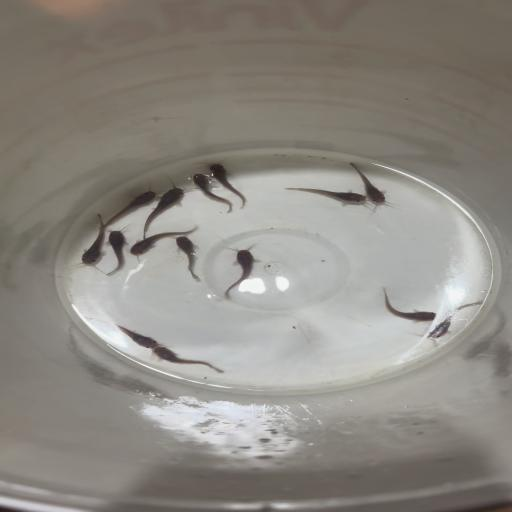lele: (136, 180, 189, 240), (348, 162, 405, 208), (423, 300, 484, 341), (379, 286, 448, 322), (84, 316, 159, 349), (220, 243, 262, 300), (99, 189, 159, 228), (129, 224, 201, 256), (71, 214, 108, 270), (205, 162, 248, 209), (153, 346, 225, 374), (186, 172, 234, 214), (168, 235, 207, 282), (283, 185, 372, 204), (101, 228, 131, 277)
